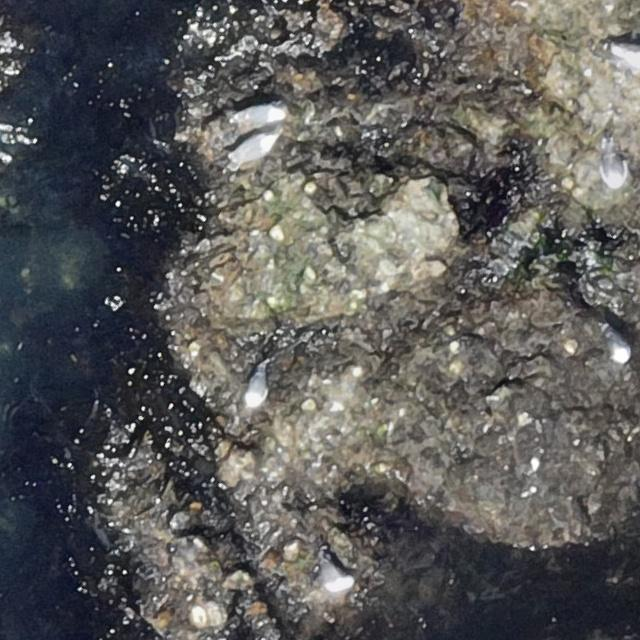umineko: (320, 552, 354, 596), (230, 134, 278, 162), (599, 148, 627, 190), (236, 104, 286, 127), (246, 366, 267, 410), (606, 330, 629, 362)
